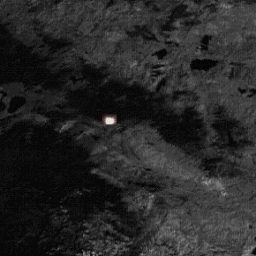Target: (104, 114, 115, 127)
